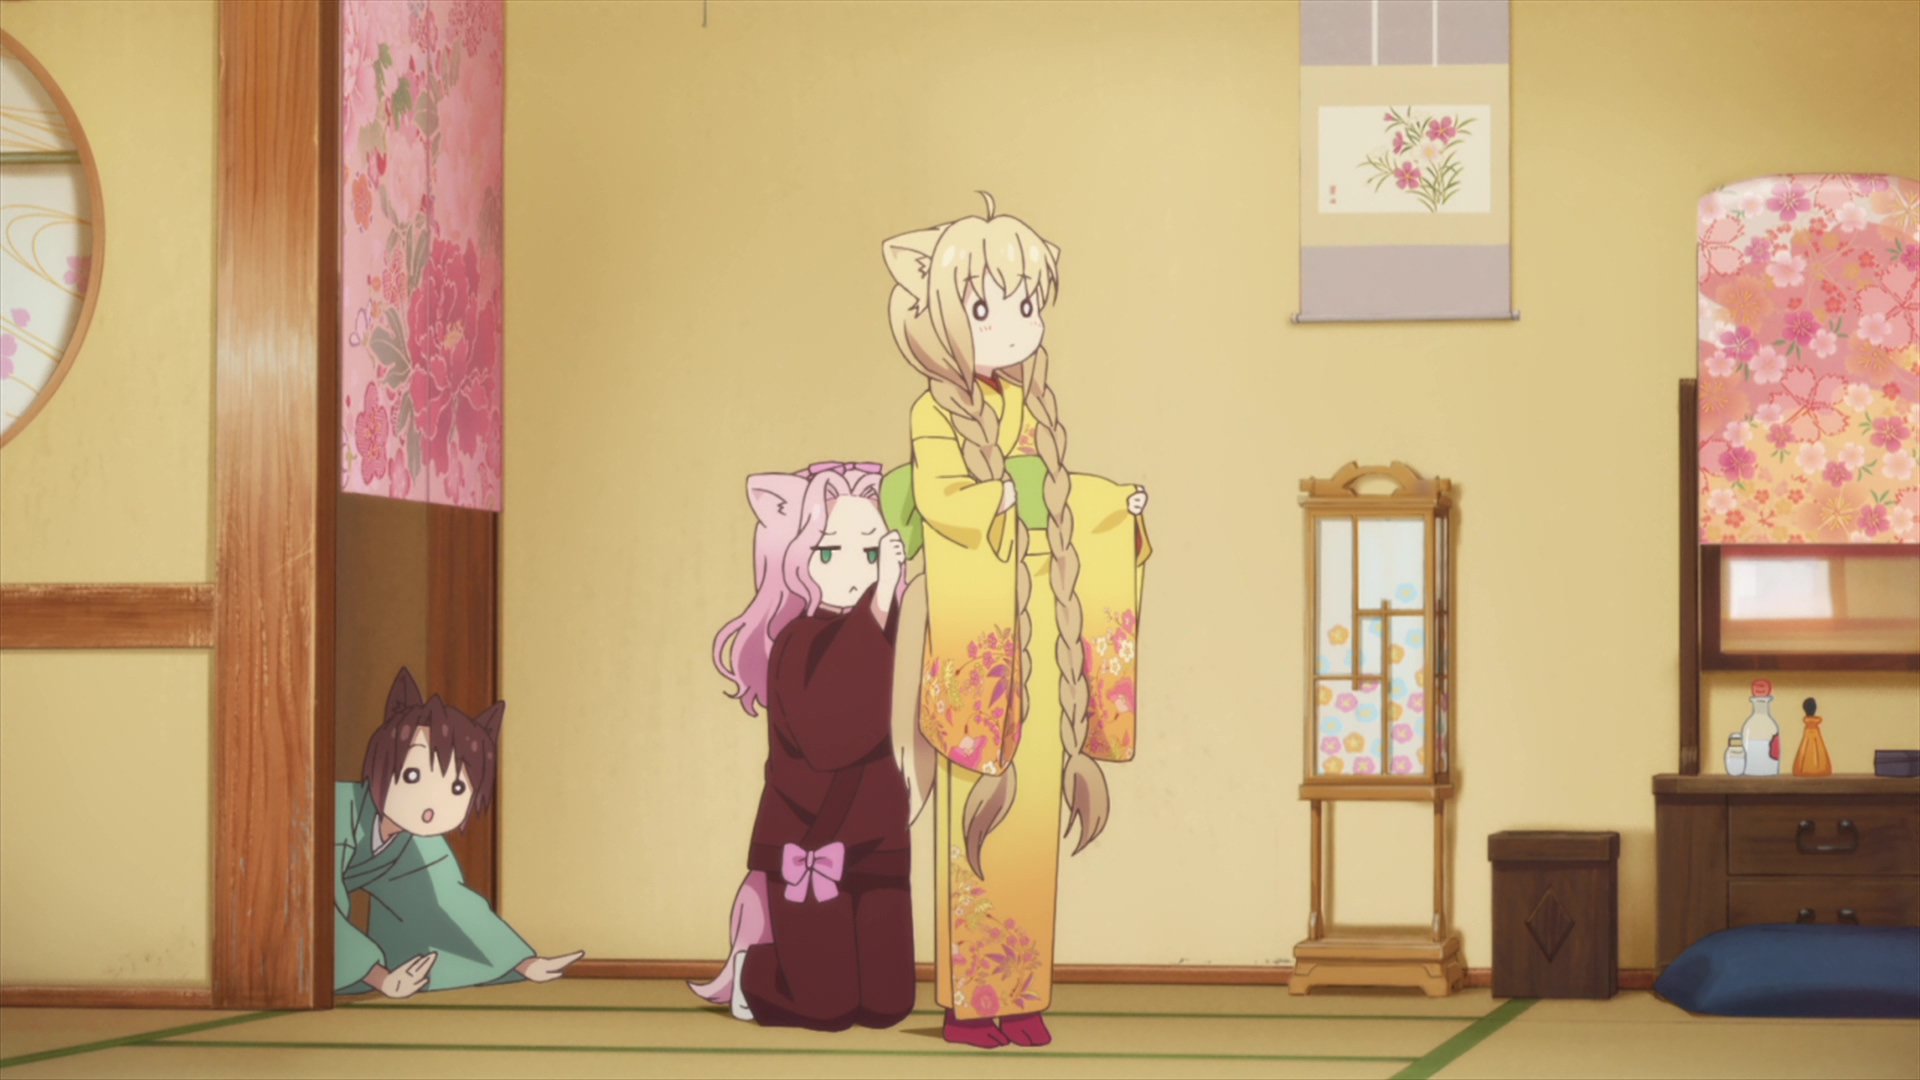枣: (334, 665, 584, 998)
柚: (884, 191, 1155, 1048)
莲: (688, 464, 920, 1031)
